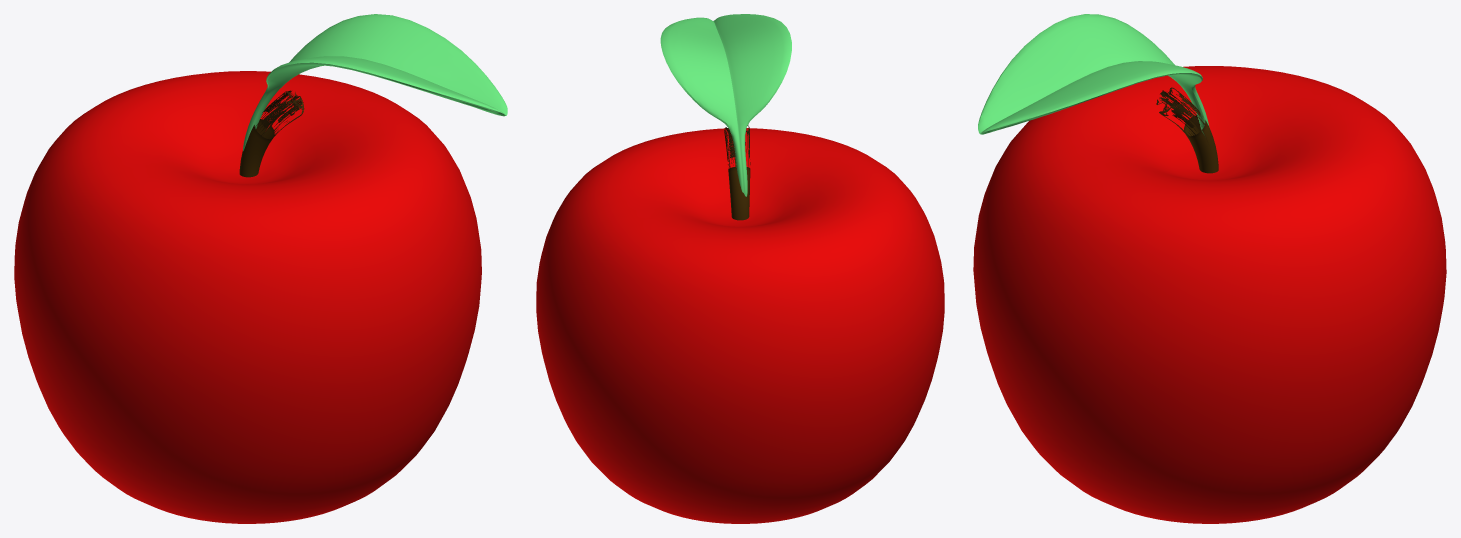
File: Apple.fbx
3 renders of one model, left to right at view 1: azimuth 30°, elevation 25°; view 2: azimuth 150°, elevation 25°; view 3: azimuth 270°, elevation 25°, orthographic. The views are drawn at different scales.
Visible parts, largest first — view 1: Sphere.003, Plane.001, Cylinder.001; view 2: Sphere.003, Plane.001, Cylinder.001; view 3: Sphere.003, Plane.001, Cylinder.001.
Part boxes in pixels (x1=…): Sphere.003: x1=14, y1=71, x2=481, y2=523; Plane.001: x1=243, y1=14, x2=507, y2=150; Cylinder.001: x1=239, y1=90, x2=304, y2=177; Sphere.003: x1=536, y1=128, x2=944, y2=523; Plane.001: x1=660, y1=14, x2=791, y2=196; Cylinder.001: x1=724, y1=125, x2=750, y2=220; Sphere.003: x1=973, y1=66, x2=1446, y2=523; Plane.001: x1=978, y1=14, x2=1209, y2=135; Cylinder.001: x1=1156, y1=87, x2=1218, y2=173.
Bounding box in the file's own units: 393 × 434 × 393.
3 materials, 2 textured.
